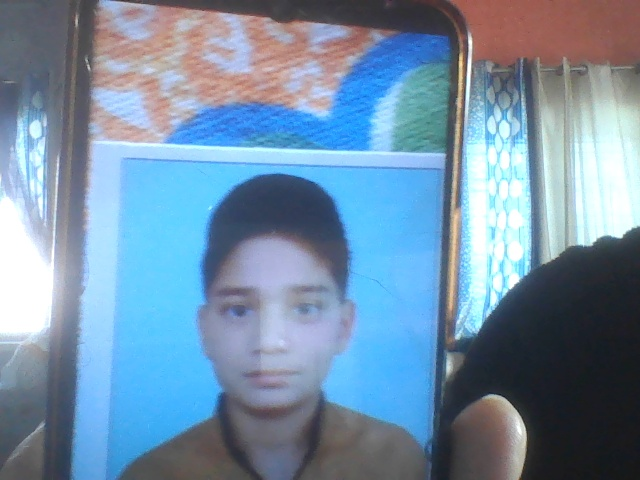fake: (180, 165, 378, 445)
